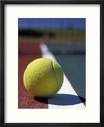tennis ball: (22, 57, 64, 99)
